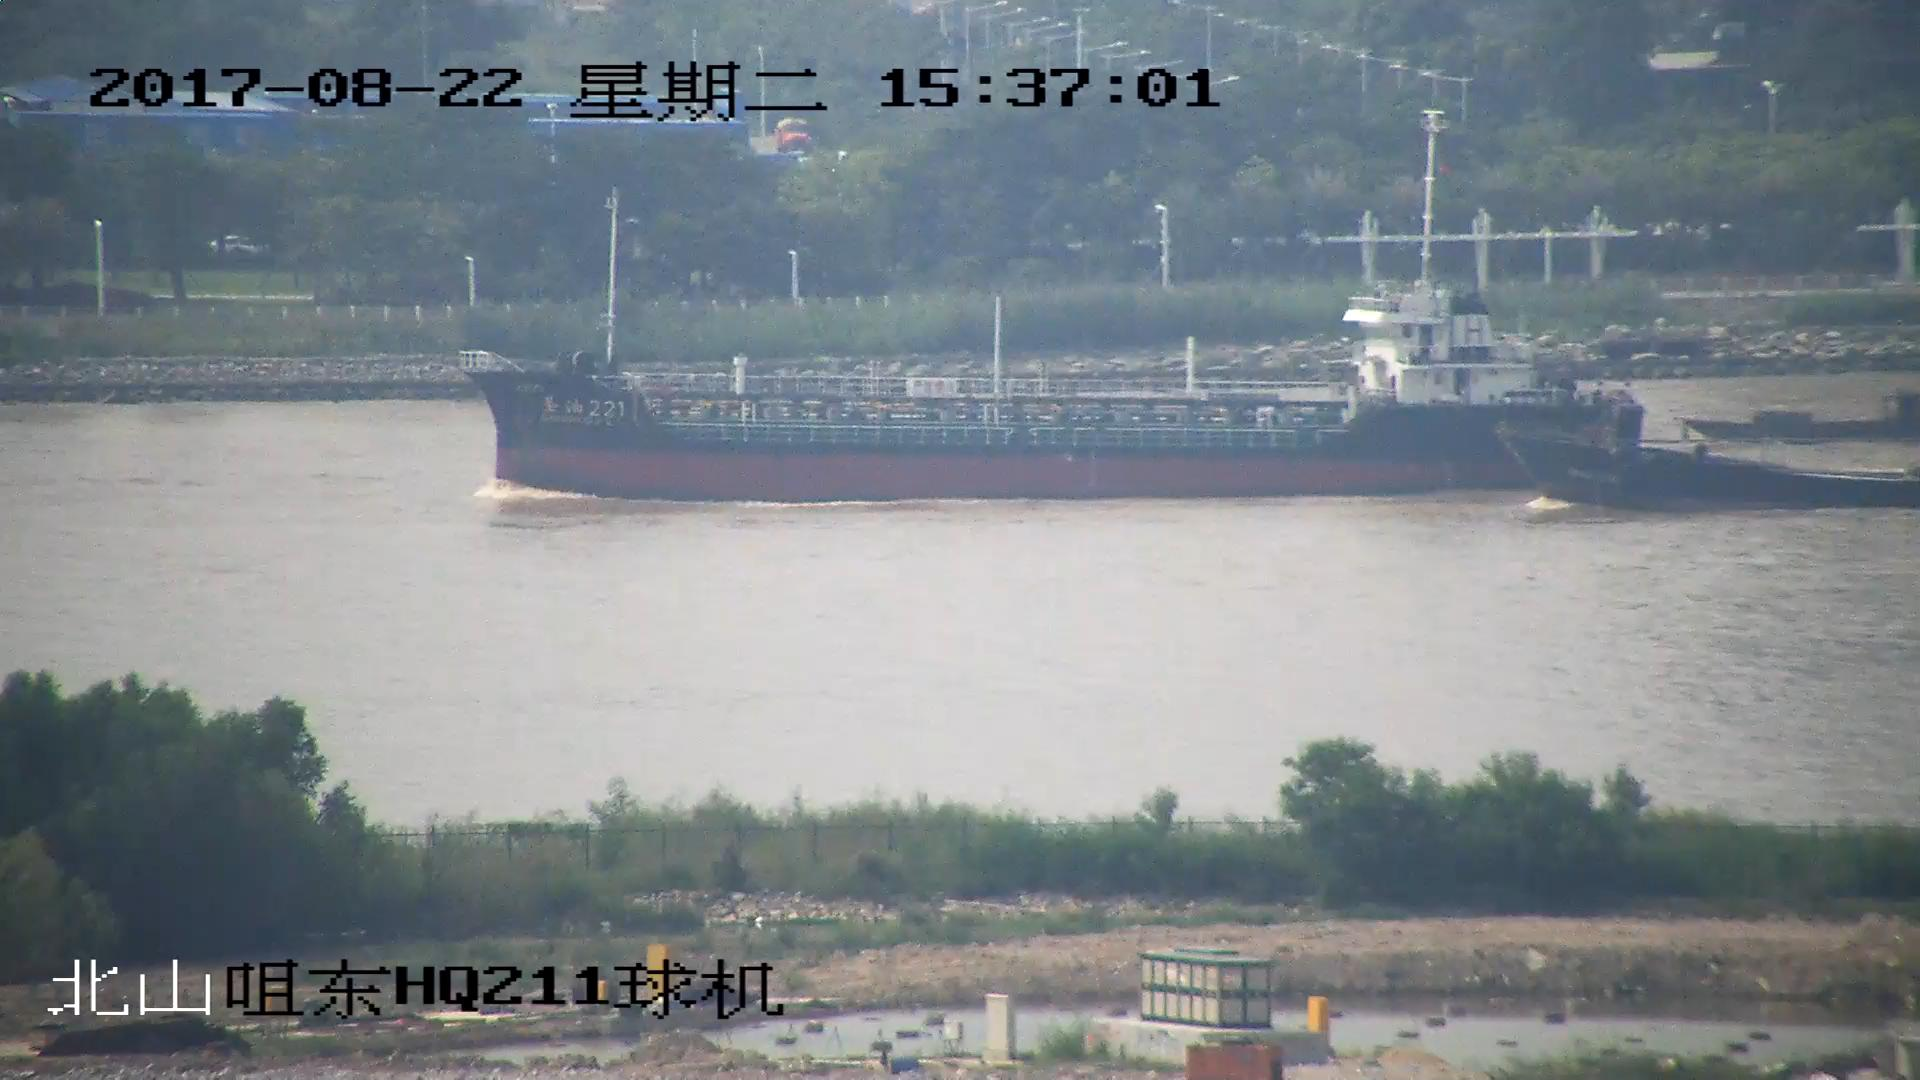fishing boat: (1499, 420, 1920, 508), (1685, 393, 1920, 446)
general cargo ship: (463, 116, 1646, 501)
